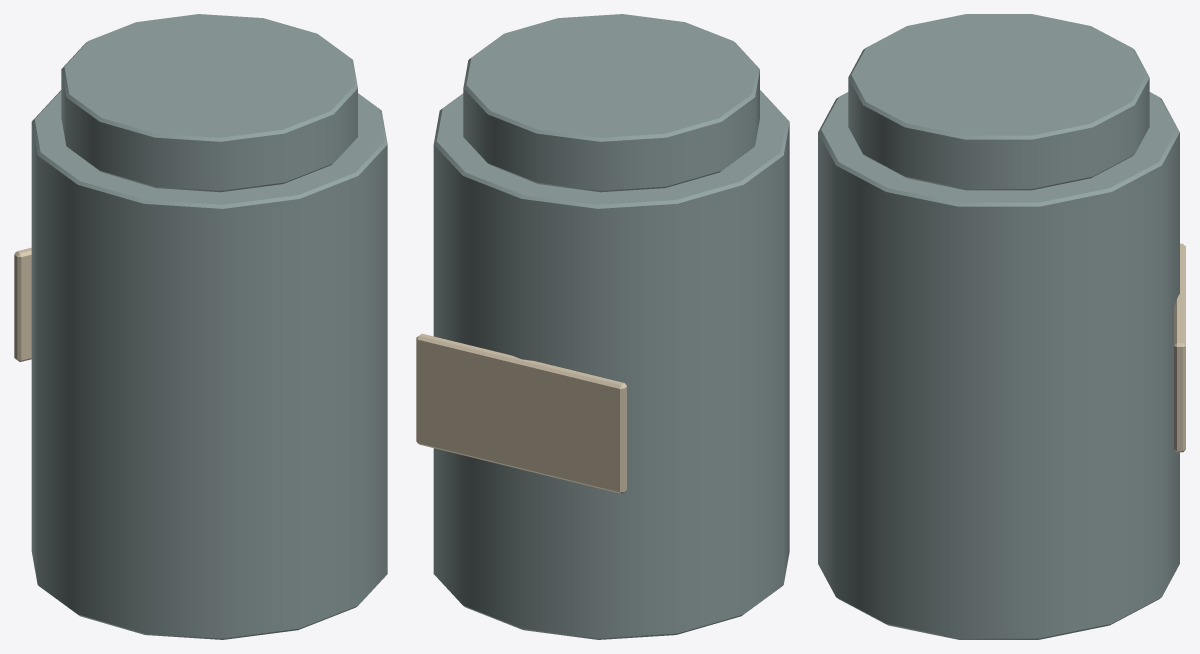
File: prop_ah_tip_jar.glb
3 renders of one model, left to right at view 1: azimuth 30°, elevation 25°; view 2: azimuth 150°, elevation 25°; view 3: azimuth 270°, elevation 25°, orthographic.
Visible parts, largest first — view 1: Body; view 2: Body; view 3: Body.
Boxes of the visible parts, box(x1,y1,x2,y2) form: Body: box(14, 14, 387, 639); Body: box(416, 14, 789, 639); Body: box(818, 14, 1185, 639).
Bounding box in the file's own units: 0.117 × 0.18 × 0.122.
